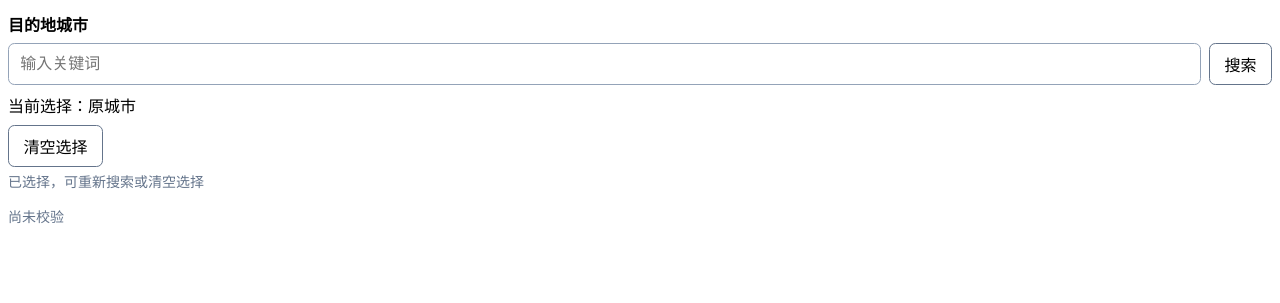
Test case: cancels on query changes and ignores a late success or rejection
The width and height of the screenshot is (1280, 303).
Later steps or results of the test are not shown.
Type "A" into the search field at coordinates (605, 64), box [8, 43, 1201, 85]
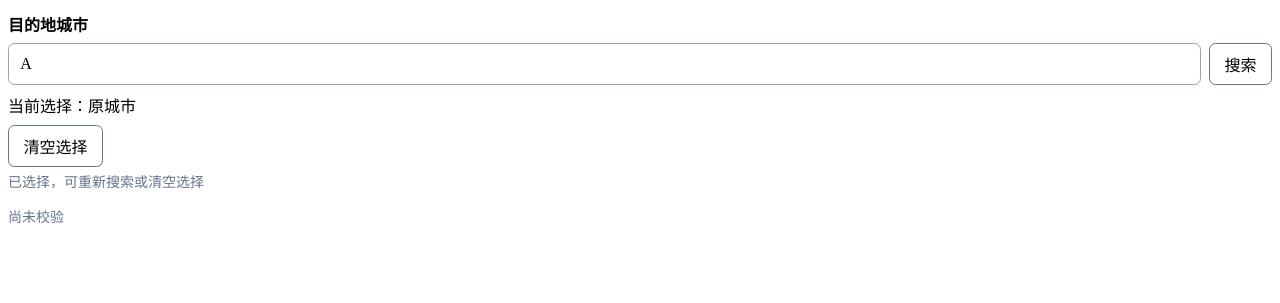
Click the button "搜索" at coordinates (1241, 64), box [1209, 43, 1272, 85]
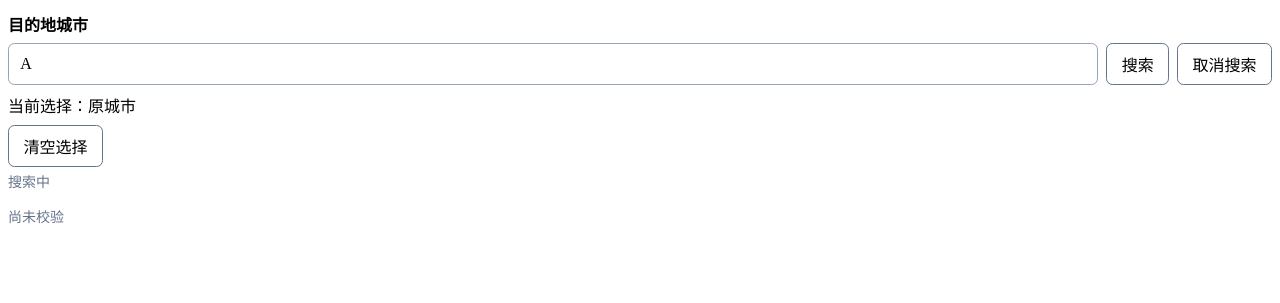
Replace the text in the search field with "B" at coordinates (553, 64), box [8, 43, 1098, 85]
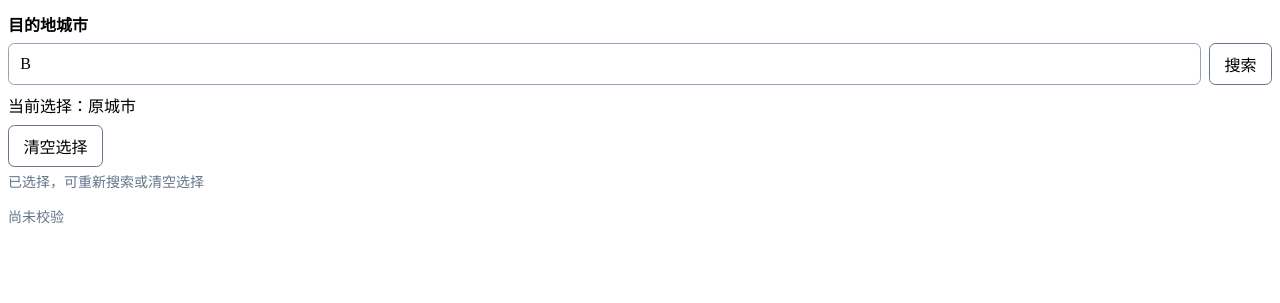
Click the button "搜索" at coordinates (1241, 64), box [1209, 43, 1272, 85]
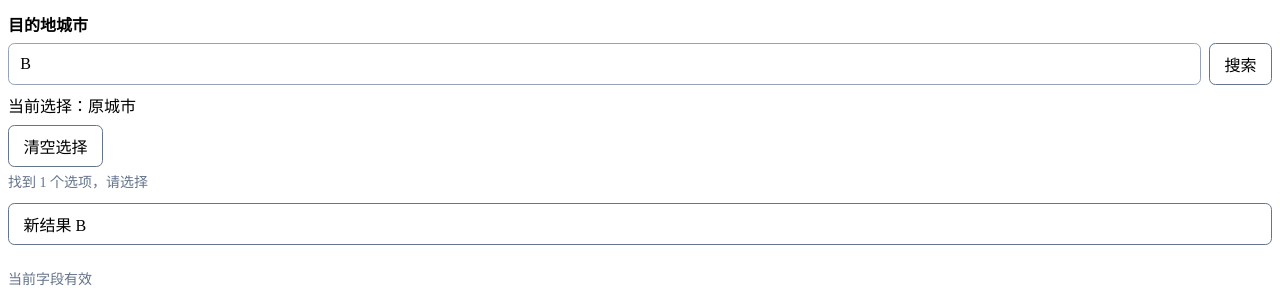
Expected: the button "新结果 B" is shown, [8, 203, 1272, 245]
